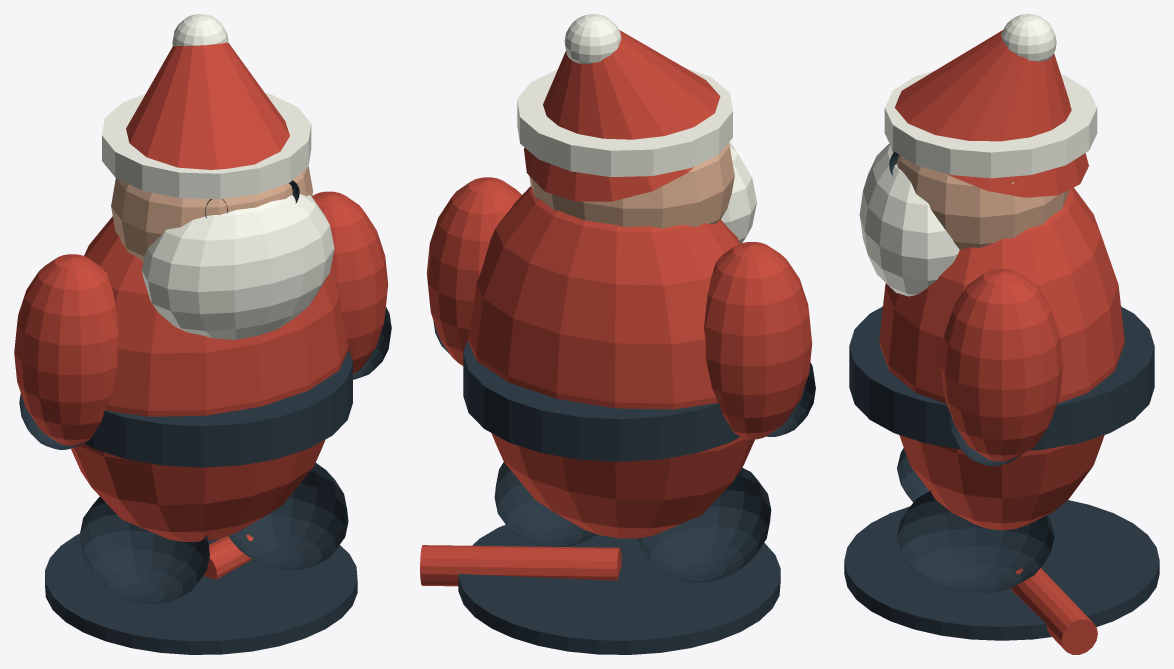
Rendered from scendance-plan-inflatable-santa.glb.
The picture shows the model from 3 angles, left to right: view 1: azimuth 30°, elevation 25°; view 2: azimuth 150°, elevation 25°; view 3: azimuth 270°, elevation 25°; orthographic projection. The views are drawn at different scales.
Size of the model in its own units: 1.92 by 2.87 by 1.44.
